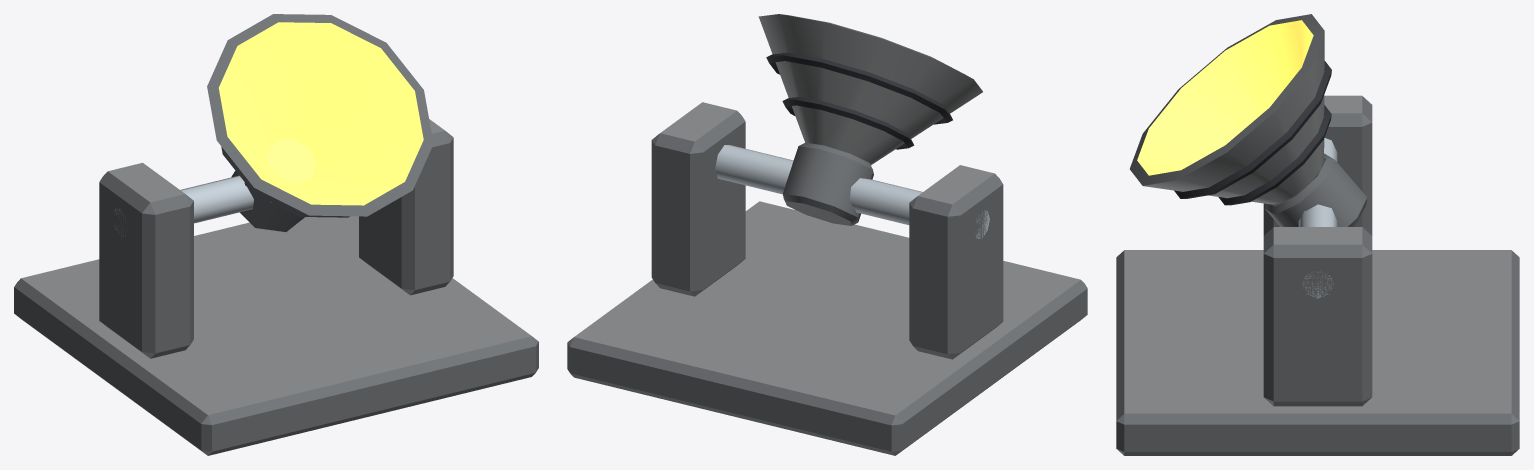
File: R4X_DeployableAmplifier_LOD1.glb
3 views of the same model, side by side, from view 1: azimuth 30°, elevation 25°; view 2: azimuth 150°, elevation 25°; view 3: azimuth 270°, elevation 25° (orthographic). The views are drawn at different scales.
Parts seen in each view (by area): view 1: R4X_DeployableAmplifier_LOD1; view 2: R4X_DeployableAmplifier_LOD1; view 3: R4X_DeployableAmplifier_LOD1.
Boxes of the visible parts, box(x1,y1,x2,y2) form: R4X_DeployableAmplifier_LOD1: box(14, 14, 538, 455); R4X_DeployableAmplifier_LOD1: box(567, 14, 1087, 455); R4X_DeployableAmplifier_LOD1: box(1116, 14, 1519, 455).
Size of the model in its own units: 0.52 by 0.488 by 0.52.
